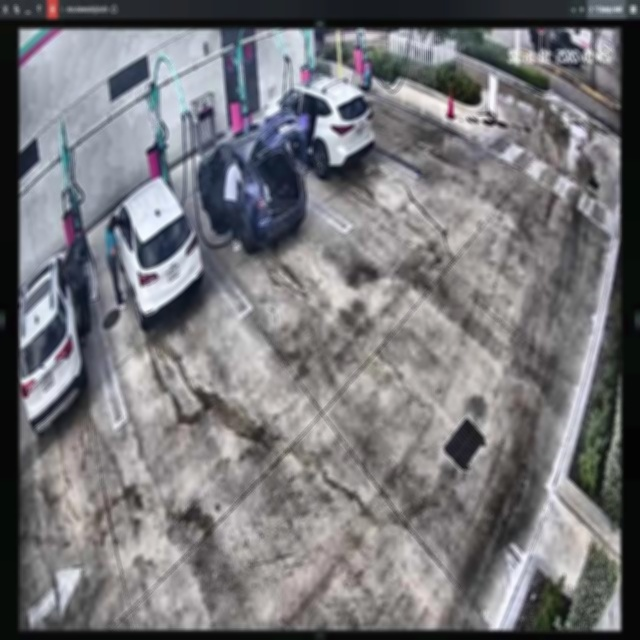Car: (197, 110, 306, 254), (110, 177, 204, 331), (260, 75, 375, 181)
